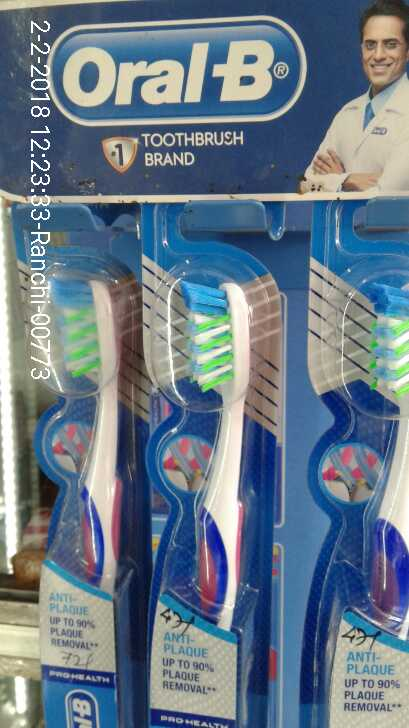oralb: (135, 196, 278, 727), (11, 215, 142, 728), (305, 196, 409, 694)
